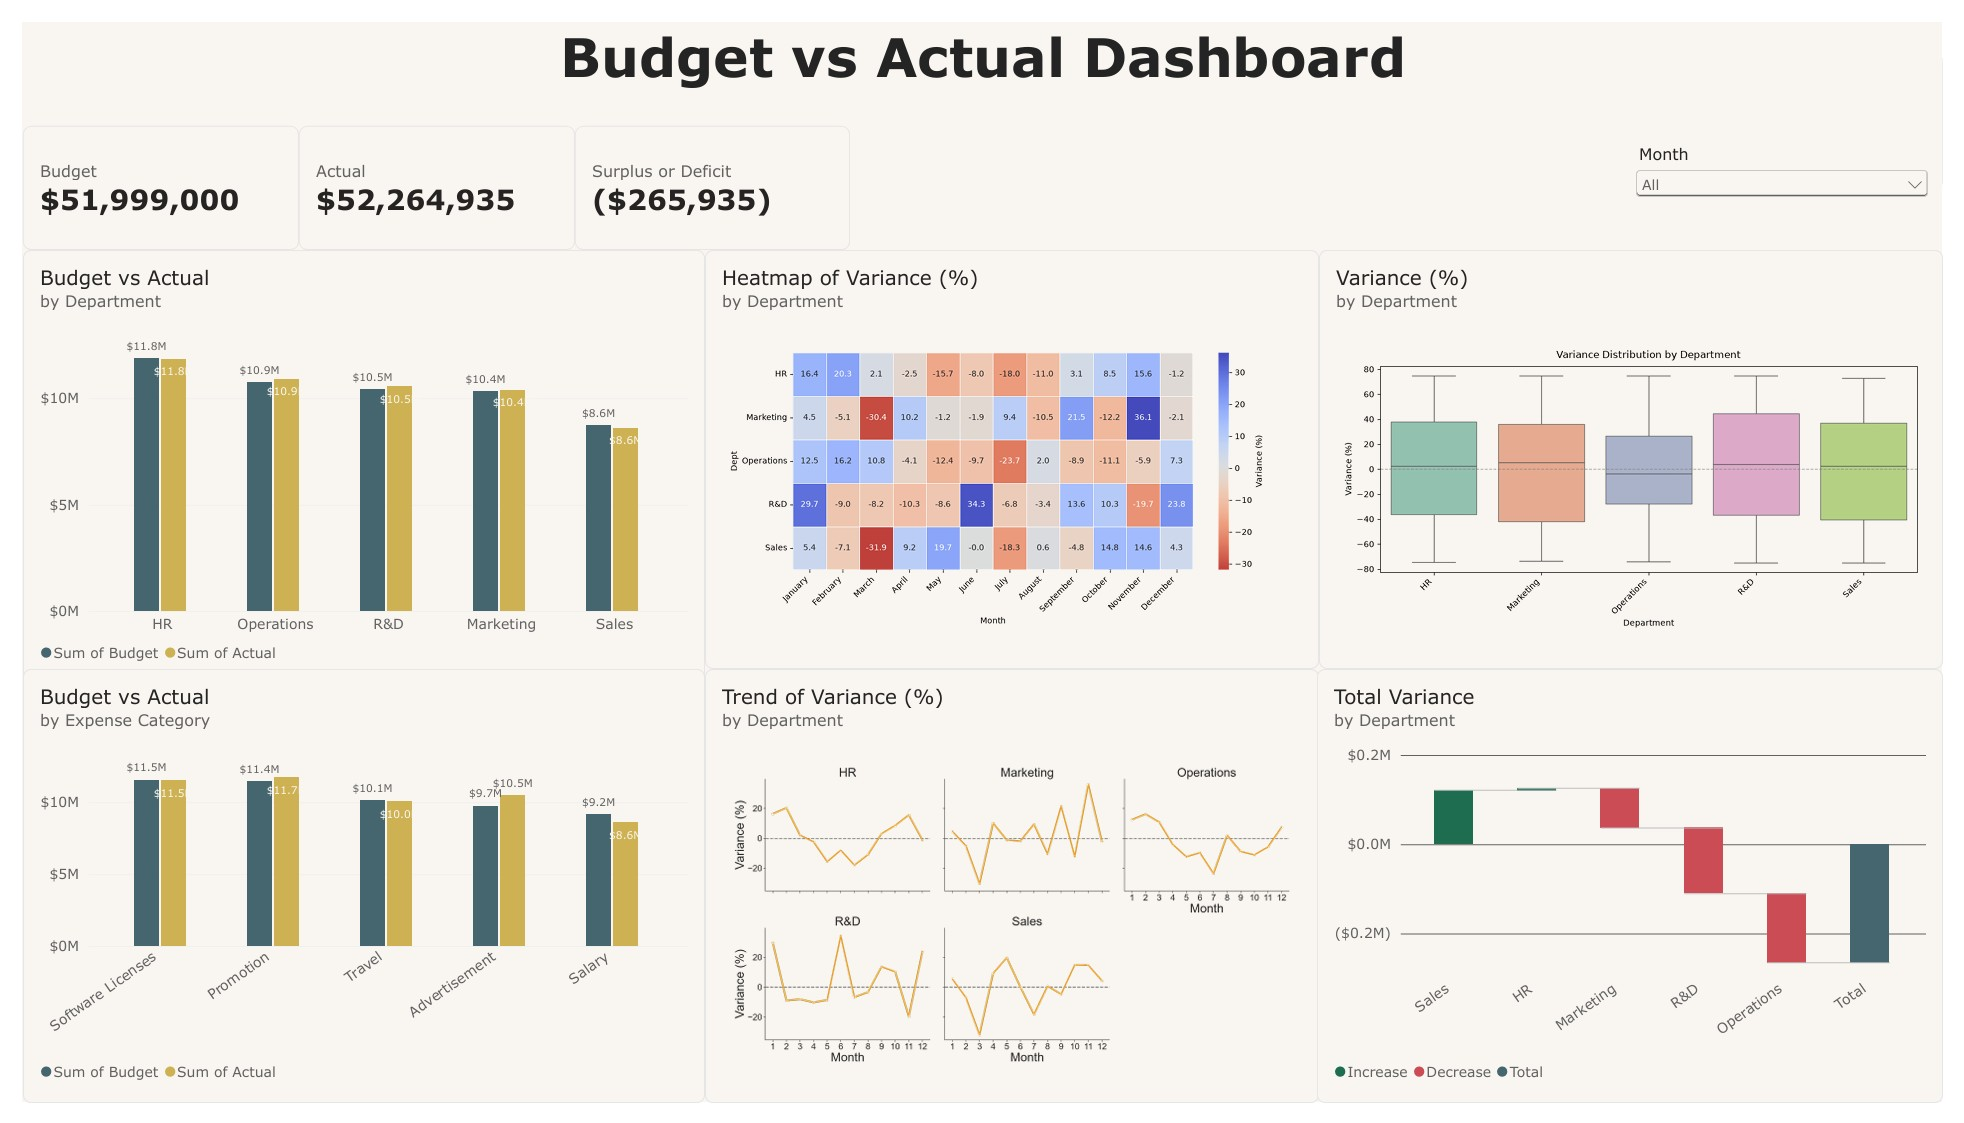

The page's visual inventory and layout, read from the dashboard file:
{"tool":"powerbi","page":{"name":"Summary","canvas":[1920,1080],"ordinal":0},"visuals":[{"type":"clusteredColumnChart","title":"Budget vs Actual","fields":{"Category":["variance_analysis.Department"],"Y":["Sum(variance_analysis.Budget)","Sum(variance_analysis.Actual)"]},"box":[0,226.7,682.2,434.4],"z":0},{"type":"textbox","box":[0,0,1920,91.1],"z":1000},{"type":"cardVisual","fields":{"Data":["Sum(variance_analysis.Actual)"]},"box":[275.8,103.1,275.8,123.7],"z":2000},{"type":"cardVisual","fields":{"Data":["Sum(variance_analysis.Budget)"]},"box":[0,103.1,275.8,123.7],"z":3000},{"type":"clusteredColumnChart","title":"Budget vs Actual","fields":{"Category":["variance_analysis.Category"],"Y":["Sum(variance_analysis.Budget)","Sum(variance_analysis.Actual)"]},"box":[0,645.6,682.2,434.4],"z":4000},{"type":"slicer","fields":{"Values":["variance_analysis.Date.Variation.Date Hierarchy.Month"]},"box":[1607.8,121.1,302.3,87.4],"z":5000},{"type":"pythonVisual","title":"Heatmap of Variance (%)","fields":{"Values":["variance_analysis.Department","variance_analysis.Month","Avg(variance_analysis.Variance_Pct)"]},"box":[682.2,226.7,613.3,418.9],"z":6000},{"type":"cardVisual","fields":{"Data":["Sum(variance_analysis.Variance)"]},"box":[551.7,103.1,275.8,123.7],"z":7000},{"type":"pythonVisual","title":"Trend of Variance (%)","fields":{"Values":["variance_analysis.Department","variance_analysis.Month","Avg(variance_analysis.Variance_Pct)"]},"box":[682.2,645.6,613.3,434.4],"z":8000},{"type":"pythonVisual","title":"Variance (%)","fields":{"Values":["variance_analysis.Department","variance_analysis.Variance_Pct"]},"box":[1295.6,226.7,624.4,418.9],"z":9000},{"type":"waterfallChart","title":"Total Variance","fields":{"Category":["variance_analysis.Department"],"Y":["Sum(variance_analysis.Variance)"]},"box":[1294.4,645.6,625.6,434.4],"z":10000}]}

Visuals, with their boxes in screenshot pixels (x1, y1, x2, y2), scaled from the page's 1920x1080 canvas onto the 1964x1123 screenshot:
"Budget vs Actual" clusteredColumnChart: [0, 236, 698, 687]
textbox: [0, 0, 1963, 95]
cardVisual - Sum(variance_analysis.Actual): [282, 107, 564, 236]
cardVisual - Sum(variance_analysis.Budget): [0, 107, 282, 236]
"Budget vs Actual" clusteredColumnChart: [0, 671, 698, 1122]
slicer - variance_analysis.Date.Variation.Date Hierarchy.Month: [1645, 126, 1954, 217]
"Heatmap of Variance (%)" pythonVisual: [698, 236, 1325, 671]
cardVisual - Sum(variance_analysis.Variance): [564, 107, 846, 236]
"Trend of Variance (%)" pythonVisual: [698, 671, 1325, 1122]
"Variance (%)" pythonVisual: [1325, 236, 1963, 671]
"Total Variance" waterfallChart: [1324, 671, 1963, 1122]
